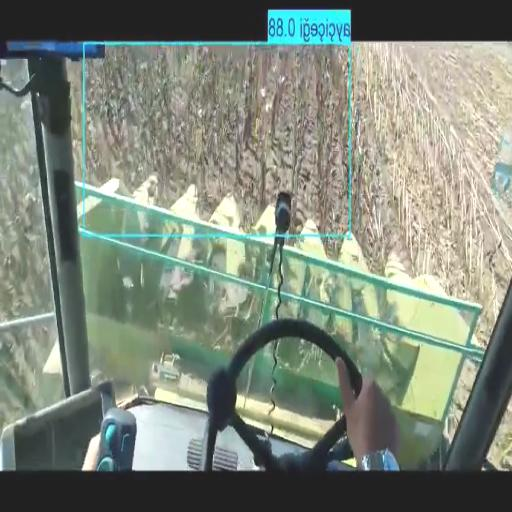ayc: (77, 47, 348, 231)
